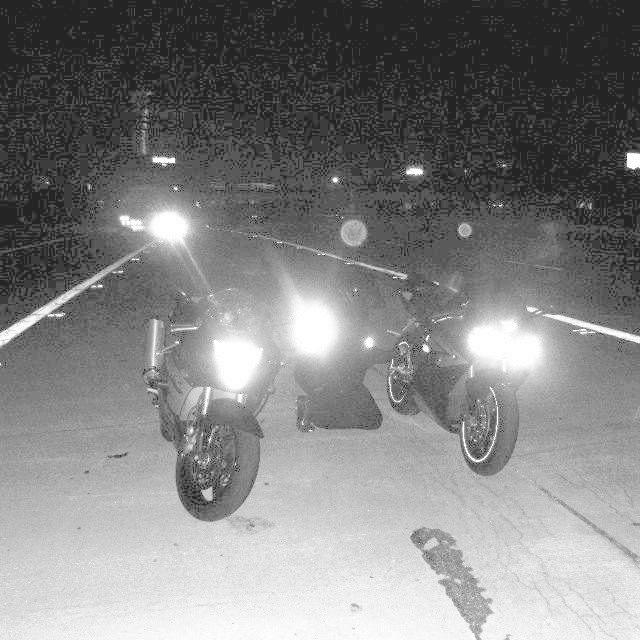Motorcycle: (373, 265, 568, 476), (143, 295, 297, 526), (297, 244, 385, 429), (115, 210, 226, 297)
